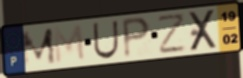M: (20, 26, 58, 69), (51, 23, 87, 66)
P: (121, 15, 153, 60)
U: (92, 19, 120, 61)
X: (187, 7, 219, 53)
Z: (157, 11, 188, 56)
